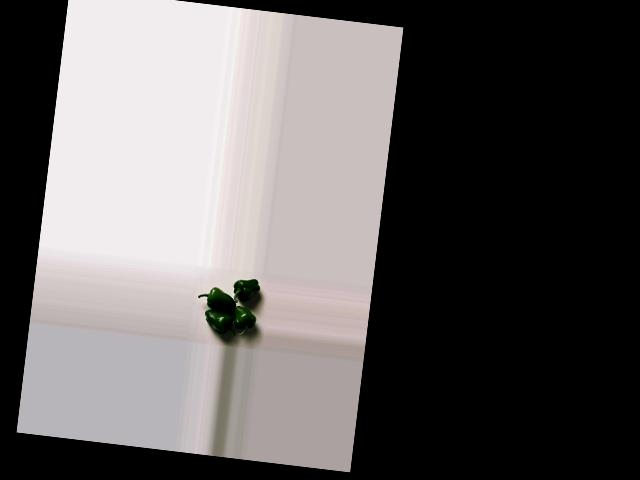bell_pepper: (233, 304, 257, 335)
